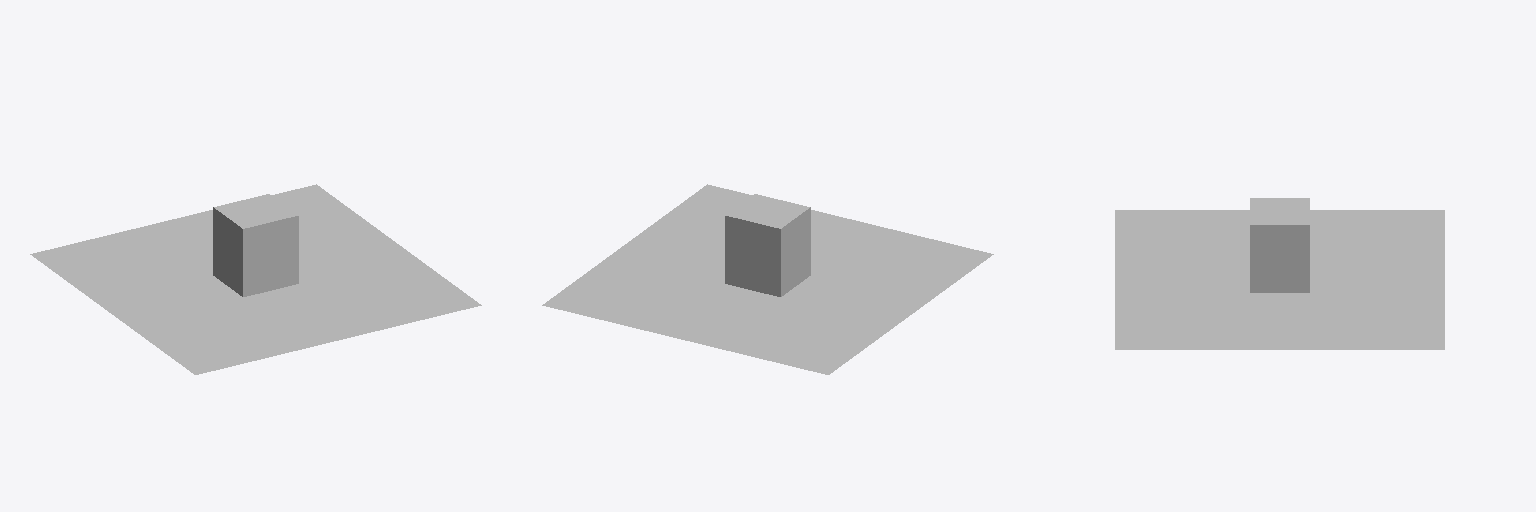
The model's file is rock-4.obj.
The picture shows the model from 3 angles: view 1: azimuth 30°, elevation 25°; view 2: azimuth 150°, elevation 25°; view 3: azimuth 270°, elevation 25°; orthographic projection.
Parts seen in each view (by area): view 1: Plane, Cube; view 2: Plane, Cube; view 3: Plane, Cube.
Boxes of the visible parts, x1=… form: Plane: x1=30, y1=184, x2=481, y2=374; Cube: x1=213, y1=194, x2=298, y2=296; Plane: x1=542, y1=184, x2=993, y2=374; Cube: x1=725, y1=194, x2=810, y2=296; Plane: x1=1115, y1=210, x2=1444, y2=349; Cube: x1=1250, y1=198, x2=1309, y2=292.
Bounding box in the file's own units: 12.17 × 3.62 × 12.17.